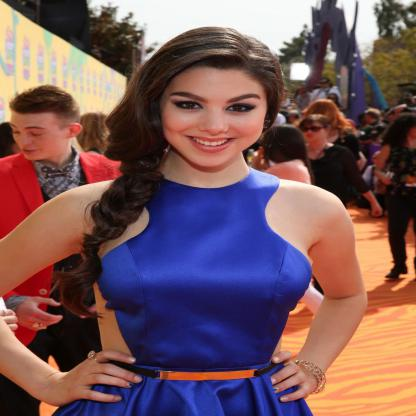face: (160, 64, 269, 167), (10, 111, 70, 161), (303, 121, 328, 143)
